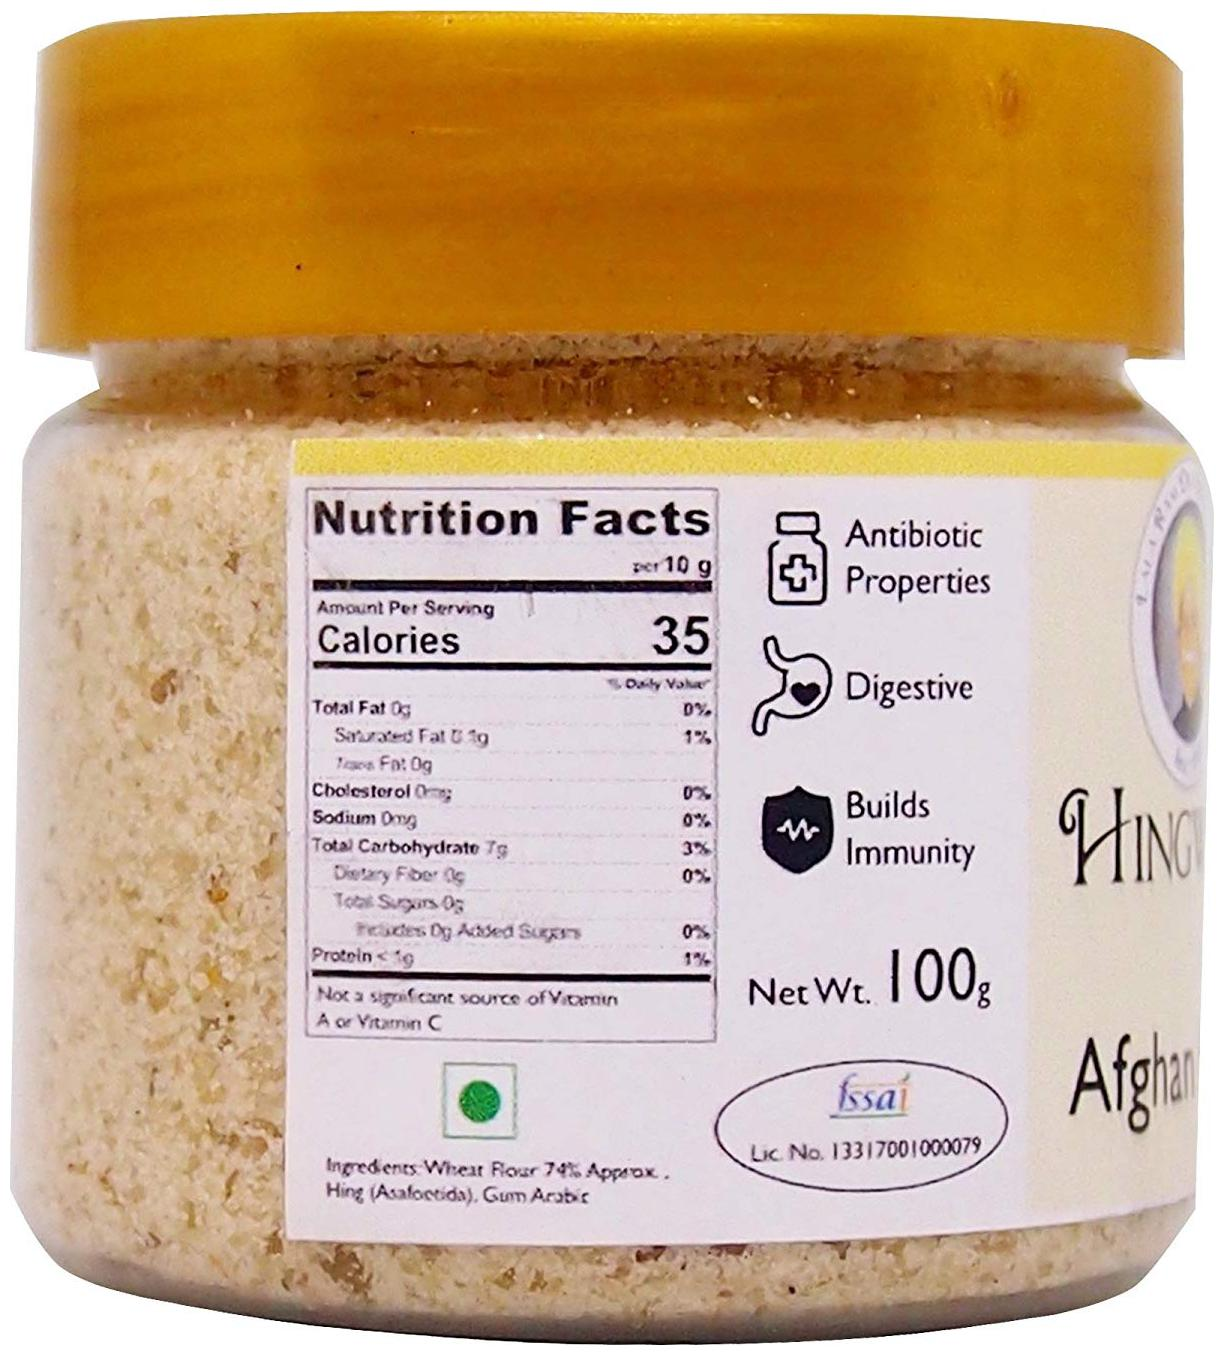fssai: (829, 1072, 916, 1118)
